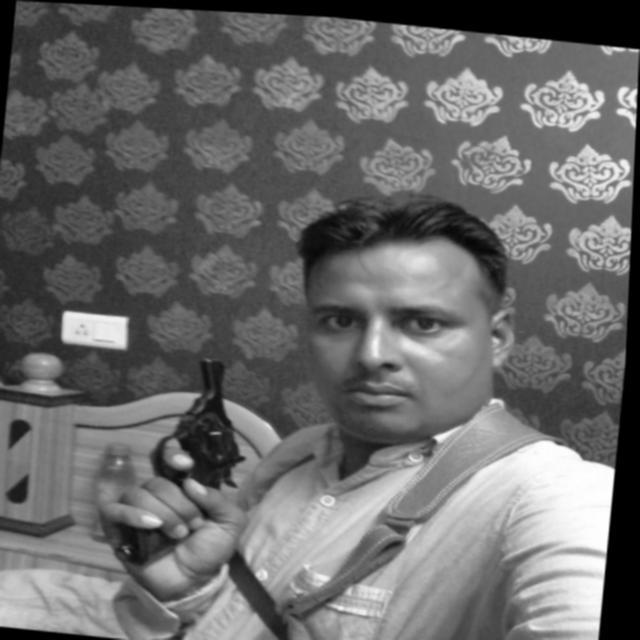weapon: (107, 342, 266, 582)
